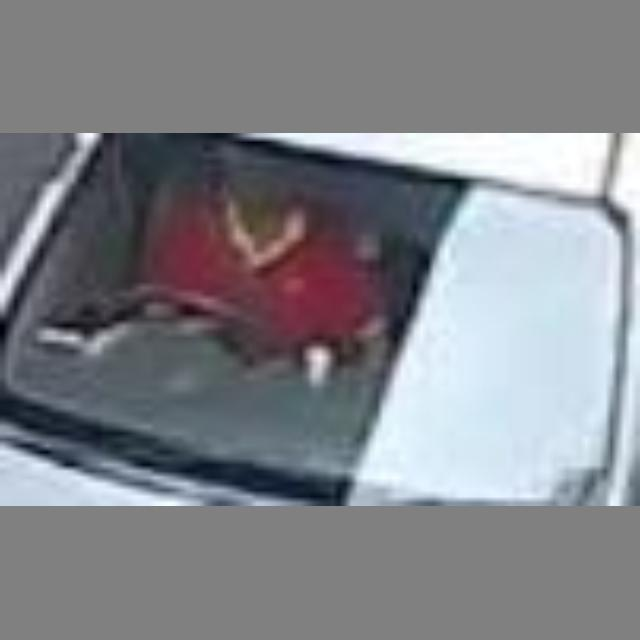tidak-pakai: (146, 184, 387, 380)
